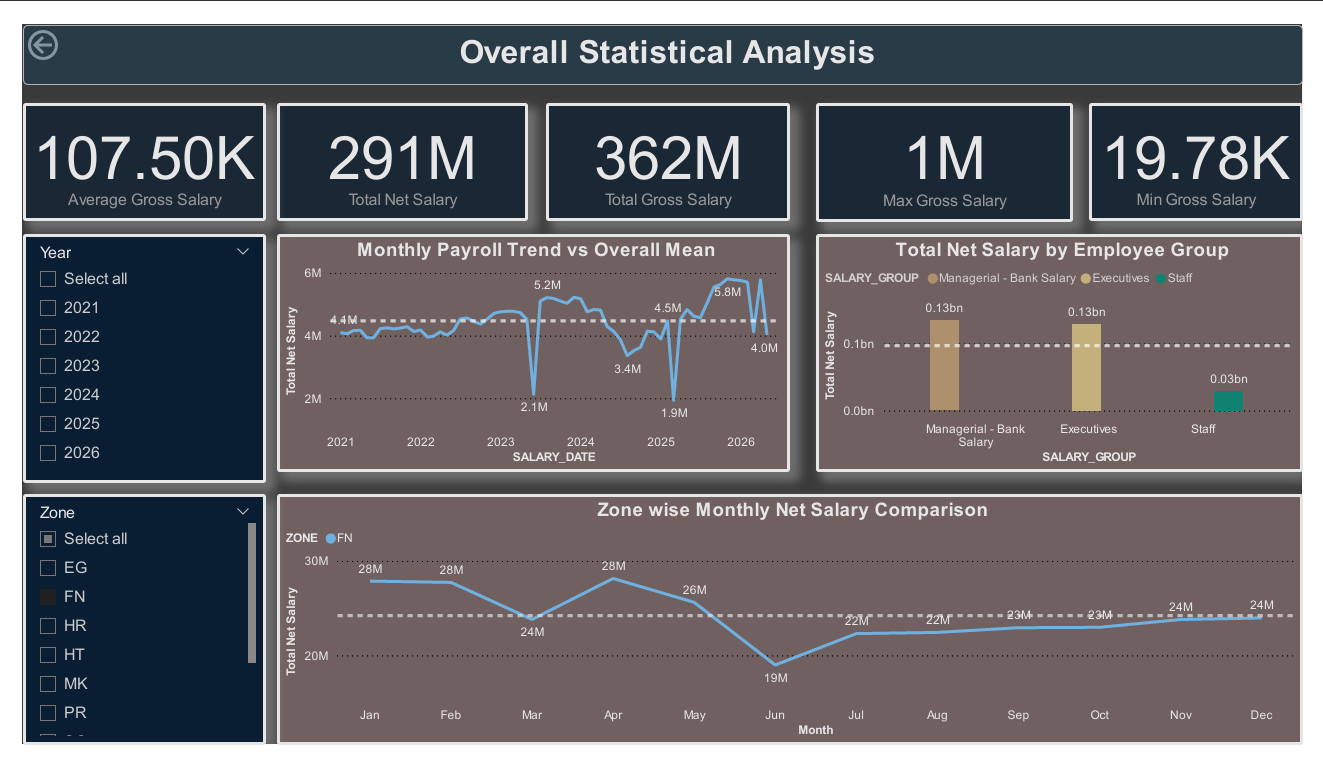

The page's visual inventory and layout, read from the dashboard file:
{"tool":"powerbi","page":{"name":"Overall Statistical Analysis","canvas":[1280,720],"ordinal":1},"visuals":[{"type":"card","fields":{"Values":["AI_PAYROLL_DATA.Total Net Salary"]},"box":[253.9,78.2,251.1,118],"z":0},{"type":"card","fields":{"Values":["AI_PAYROLL_DATA.Total Gross Salary"]},"box":[522.8,78.2,244.3,118],"z":1000},{"type":"card","fields":{"Values":["AI_PAYROLL_DATA.Max Net Salary"]},"box":[792.6,78.4,257,118.2],"z":2000},{"type":"actionButton","box":[0,0,100,40],"z":3000},{"type":"slicer","fields":{"Values":["DateTable.Year"]},"box":[0,208.6,242.9,249.7],"z":4000},{"type":"lineChart","title":"Monthly Payroll Trend vs Overall Mean","fields":{"Category":["AI_PAYROLL_DATA.SALARY_DATE"],"Y":["AI_PAYROLL_DATA.Total Net Salary"]},"box":[253.9,208.6,513.2,238.8],"z":5000},{"type":"card","fields":{"Values":["AI_PAYROLL_DATA.Min Net Salary"]},"box":[1066.2,78.2,214.1,118],"z":6000},{"type":"card","fields":{"Values":["AI_PAYROLL_DATA.Average Gross Salary"]},"box":[0,78.2,242.9,118],"z":7000},{"type":"lineChart","title":"Zone wise Monthly Net Salary Comparison","fields":{"Y":["AI_PAYROLL_DATA.Total Net Salary"],"Category":["DateTable.Month"],"Series":["AI_PAYROLL_DATA.ZONE"]},"box":[253.9,469.3,1026.4,251.1],"z":8000},{"type":"slicer","fields":{"Values":["AI_PAYROLL_DATA.ZONE"]},"box":[0,469.3,242.9,251.1],"z":9000},{"type":"textbox","box":[0,0,1280.3,60.4],"z":10000},{"type":"clusteredColumnChart","title":"Total Net Salary by Employee Group","fields":{"Y":["AI_PAYROLL_DATA.Total Net Salary"],"Category":["AI_PAYROLL_DATA.SALARY_GROUP"],"Series":["AI_PAYROLL_DATA.SALARY_GROUP"]},"box":[793.1,208.6,487.1,238.8],"z":11000}]}

Visuals, with their boxes in screenshot pixels (x1, y1, x2, y2), scaled from the page's 1280x720 canvas onto the 1323x763 screenshot:
card - AI_PAYROLL_DATA.Total Net Salary: [262,83,522,208]
card - AI_PAYROLL_DATA.Total Gross Salary: [540,83,793,208]
card - AI_PAYROLL_DATA.Max Net Salary: [819,83,1085,208]
actionButton: [0,0,103,42]
slicer - DateTable.Year: [0,221,251,486]
"Monthly Payroll Trend vs Overall Mean" lineChart: [262,221,793,474]
card - AI_PAYROLL_DATA.Min Net Salary: [1102,83,1322,208]
card - AI_PAYROLL_DATA.Average Gross Salary: [0,83,251,208]
"Zone wise Monthly Net Salary Comparison" lineChart: [262,497,1322,762]
slicer - AI_PAYROLL_DATA.ZONE: [0,497,251,762]
textbox: [0,0,1322,64]
"Total Net Salary by Employee Group" clusteredColumnChart: [820,221,1322,474]
